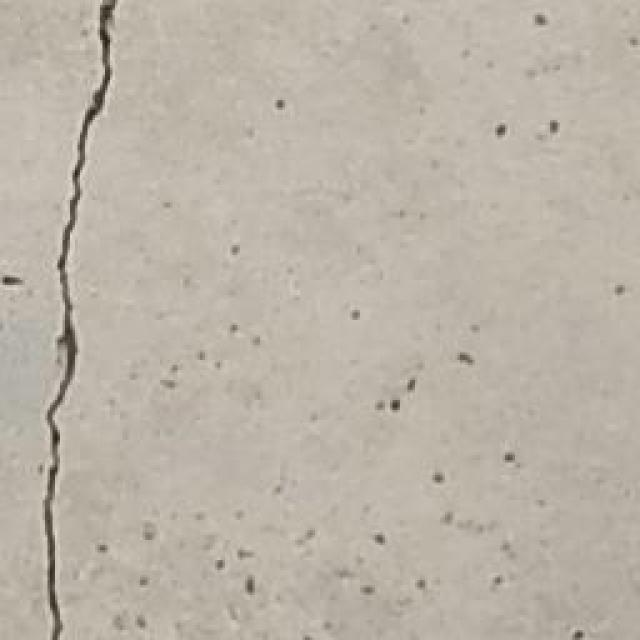concrete-crack: (40, 0, 120, 640)
